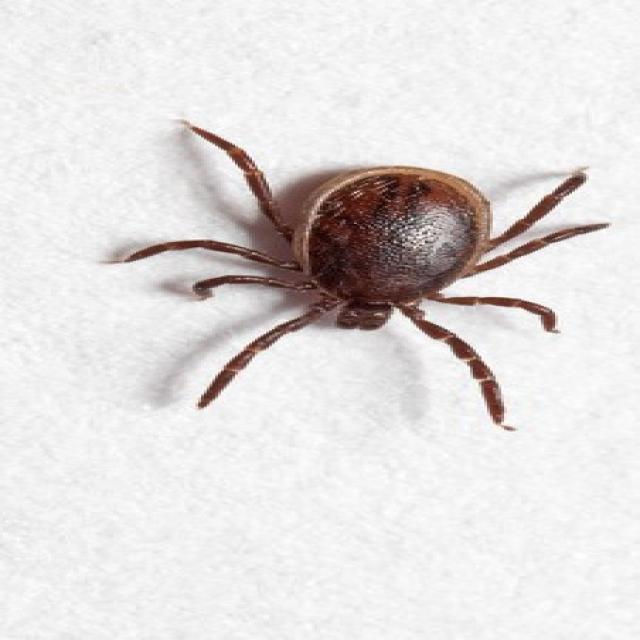Ixodes Ricinus-M: (113, 123, 609, 430)
